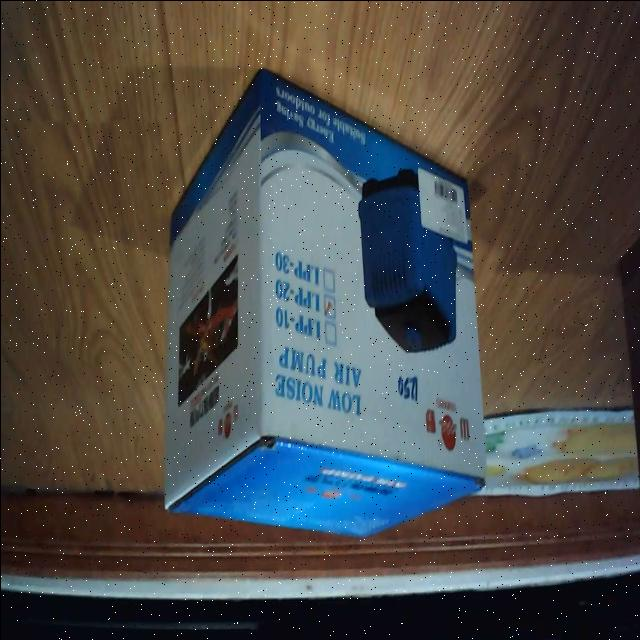YAMANO_LPP_20: (148, 55, 489, 552)
